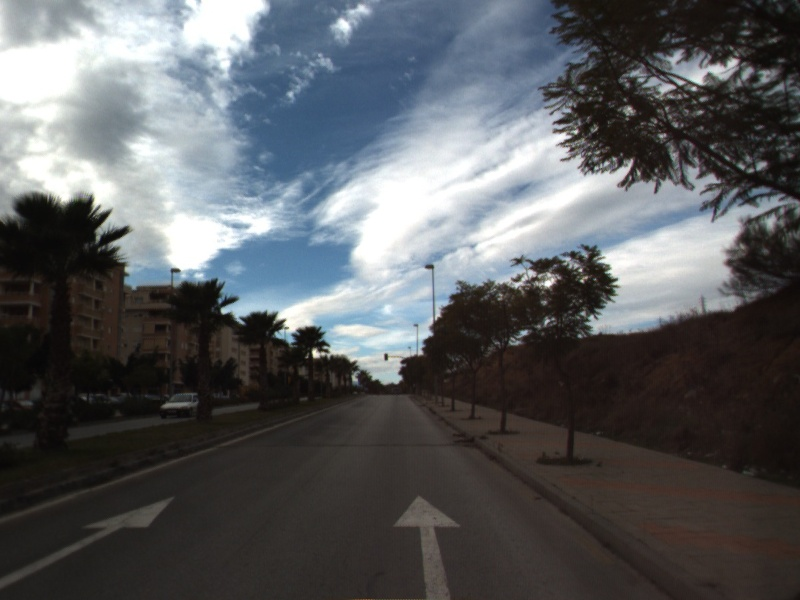STRAIGHT: (1, 494, 178, 591), (391, 493, 464, 600)
